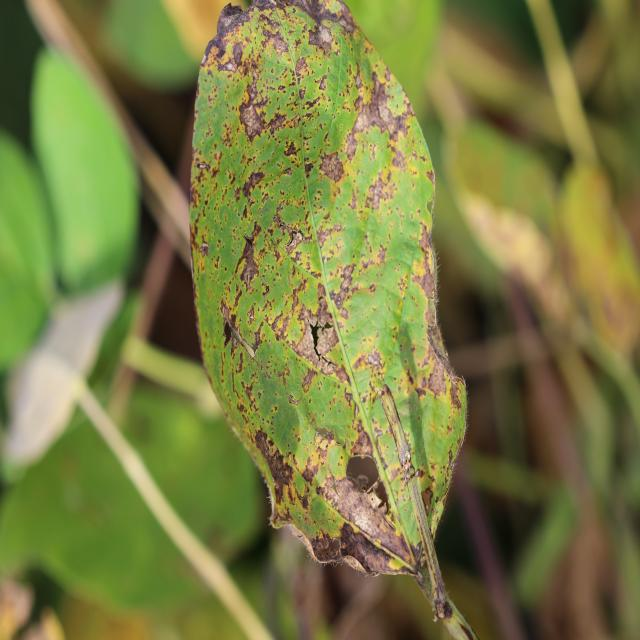Bacterial_Blight: (417, 317, 468, 538), (349, 69, 403, 156), (254, 430, 304, 514), (231, 232, 263, 284), (410, 244, 437, 305), (303, 177, 335, 227), (310, 316, 337, 366), (313, 1, 354, 32), (350, 416, 376, 458), (426, 351, 449, 397), (238, 98, 263, 138), (318, 151, 345, 183), (270, 306, 294, 341), (370, 479, 390, 516), (242, 168, 266, 198), (335, 262, 357, 293), (283, 225, 306, 254), (202, 35, 223, 63), (340, 554, 368, 574), (268, 30, 289, 56), (398, 450, 414, 482), (313, 425, 336, 444), (255, 429, 272, 454), (232, 40, 246, 67), (420, 486, 434, 512), (283, 139, 300, 159), (251, 330, 264, 355), (276, 364, 290, 387), (222, 321, 233, 348), (366, 351, 382, 368), (355, 473, 370, 490), (329, 537, 341, 555), (330, 478, 340, 497), (247, 305, 256, 325), (199, 241, 210, 257), (286, 393, 300, 405), (196, 161, 210, 172), (322, 322, 333, 334), (243, 234, 254, 243), (276, 203, 284, 214), (310, 412, 317, 423)
Soybean: (190, 0, 477, 640)
